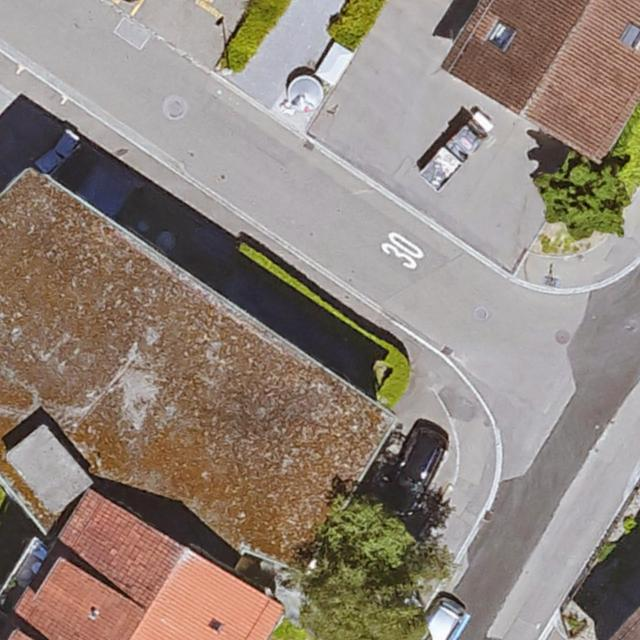tree: (301, 496, 424, 640), (541, 161, 627, 232)
